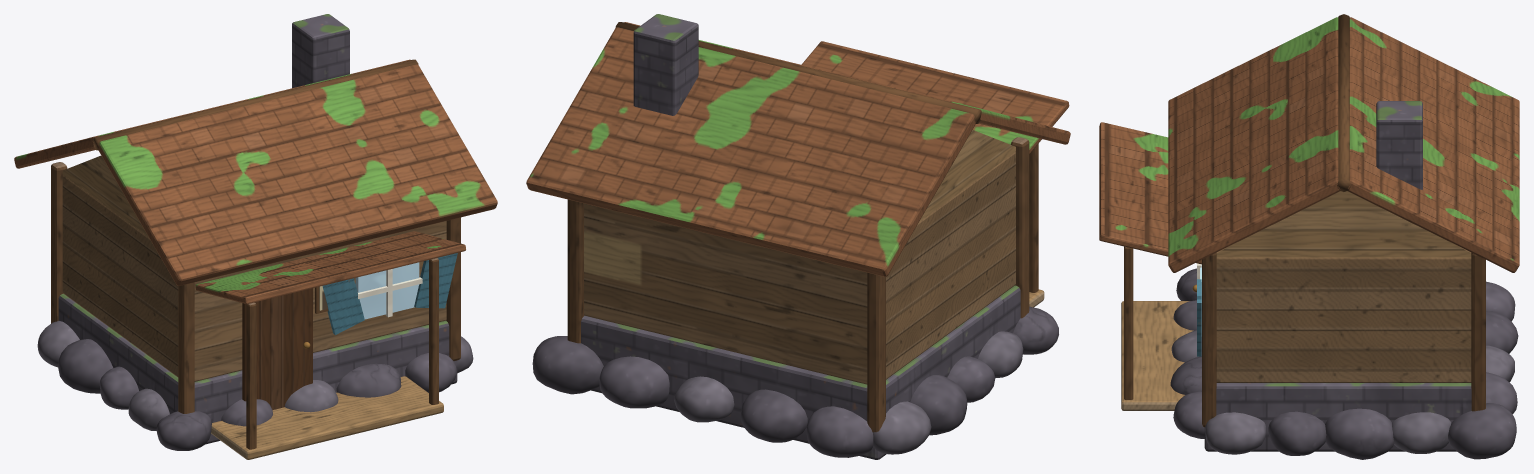
The model's file is grandfather_house.glb.
3 renders of one model, left to right at view 1: azimuth 30°, elevation 25°; view 2: azimuth 150°, elevation 25°; view 3: azimuth 270°, elevation 25°, orthographic. The views are drawn at different scales.
Parts seen in each view (by area): view 1: GrandfatherHouse; view 2: GrandfatherHouse; view 3: GrandfatherHouse.
Boxes of the visible parts, <box> form: GrandfatherHouse: <box>14,14,497,459</box>; GrandfatherHouse: <box>526,14,1070,459</box>; GrandfatherHouse: <box>1099,14,1519,459</box>.
Bounding box in the file's own units: 4.43 × 3.84 × 4.53.
Materials: 1 (1 with a texture image).
